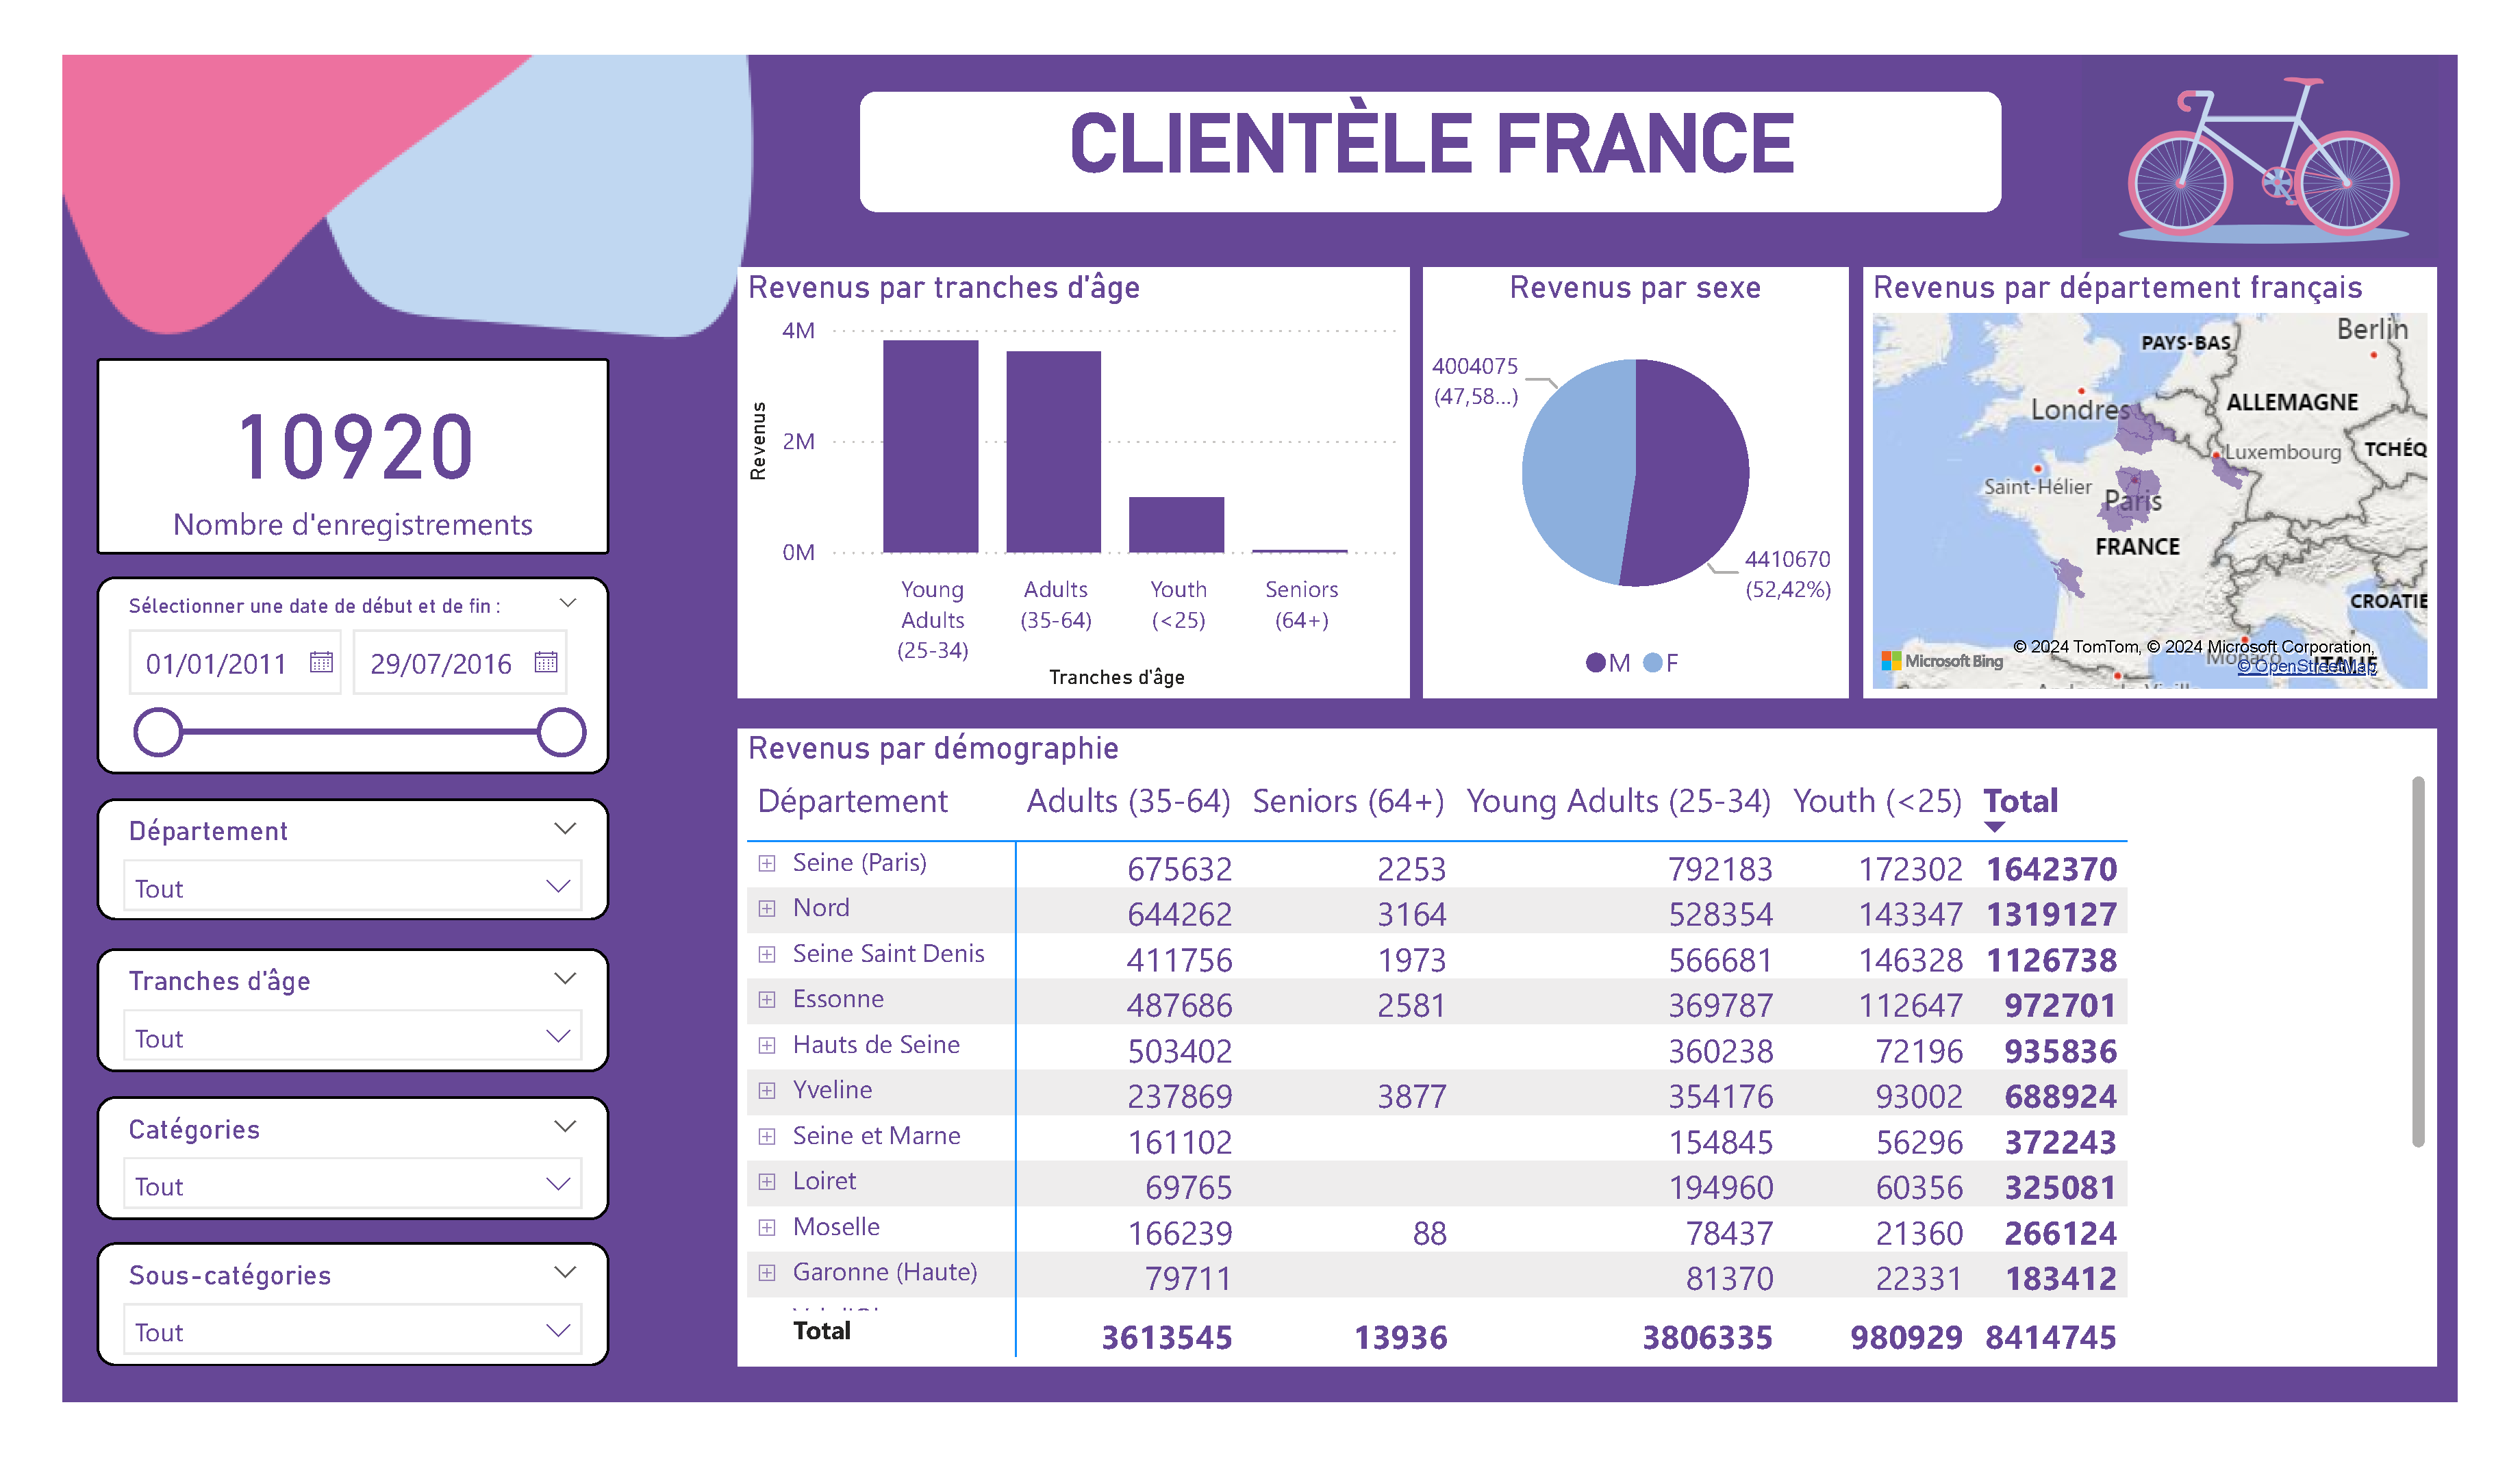

What the dashboard file says about the page in this screenshot:
{"tool":"powerbi","page":{"name":"Segmentation clientèle","canvas":[1280,720],"ordinal":5},"visuals":[{"type":"image","box":[0,0,1280.3,720.4],"z":0},{"type":"image","box":[1063.5,0,207.2,116.6],"z":1000},{"type":"textbox","title":"CLIENTÈLE FRANCE","box":[428.1,23.3,603.8,65.9],"z":2000},{"type":"card","fields":{"Values":["CountNonNull(france_df.Date)"]},"box":[27.1,164.7,270.3,102.9],"z":3000},{"type":"slicer","fields":{"Values":["france_df.Date"]},"box":[27.1,279.9,270.3,104.3],"z":4000},{"type":"slicer","fields":{"Values":["france_df.State"]},"box":[27.1,396.6,270.3,64.5],"z":5000},{"type":"slicer","fields":{"Values":["france_df.Age_Group"]},"box":[27.1,476.2,270.3,64.5],"z":6000},{"type":"slicer","fields":{"Values":["france_df.Product_Category"]},"box":[27.1,554.4,270.3,64.5],"z":7000},{"type":"slicer","fields":{"Values":["france_df.Sub_Category"]},"box":[27.1,631.2,270.3,64.5],"z":8000},{"type":"clusteredColumnChart","title":"Revenus par tranches d''âge","fields":{"Category":["france_df.Age_Group"],"Y":["Sum(france_df.Revenue)"]},"box":[365,116.6,354,227.8],"z":9000},{"type":"pieChart","title":"Revenus par sexe","fields":{"Category":["france_df.Customer_Gender"],"Y":["Sum(france_df.Revenue)"]},"box":[725.9,116.6,223.7,227.8],"z":10000},{"type":"pivotTable","title":"Revenus par démographie","fields":{"Columns":["france_df.Age_Group"],"Values":["Sum(france_df.Revenue)"],"Rows":["france_df.State","france_df.Customer_Gender"]},"box":[365,359.5,894.7,336.2],"z":11000},{"type":"filledMap","title":"Revenus par département français","fields":{"Category":["france_df.State"]},"box":[957.8,116.6,301.9,227.8],"z":12000}]}

Visuals, with their boxes in screenshot pixels (x1, y1, x2, y2), scaled from the page's 1280x720 canvas onto the 2520x1457 screenshot:
image: (left=0, top=0, right=2519, bottom=1456)
image: (left=2094, top=0, right=2502, bottom=236)
"CLIENTÈLE FRANCE" textbox: (left=843, top=47, right=2032, bottom=181)
card - CountNonNull(france_df.Date): (left=53, top=333, right=585, bottom=542)
slicer - france_df.Date: (left=53, top=566, right=585, bottom=778)
slicer - france_df.State: (left=53, top=802, right=585, bottom=933)
slicer - france_df.Age_Group: (left=53, top=963, right=585, bottom=1094)
slicer - france_df.Product_Category: (left=53, top=1122, right=585, bottom=1252)
slicer - france_df.Sub_Category: (left=53, top=1278, right=585, bottom=1408)
"Revenus par tranches d''âge" clusteredColumnChart: (left=718, top=236, right=1415, bottom=697)
"Revenus par sexe" pieChart: (left=1429, top=236, right=1869, bottom=697)
"Revenus par démographie" pivotTable: (left=718, top=728, right=2480, bottom=1408)
"Revenus par département français" filledMap: (left=1886, top=236, right=2480, bottom=697)
